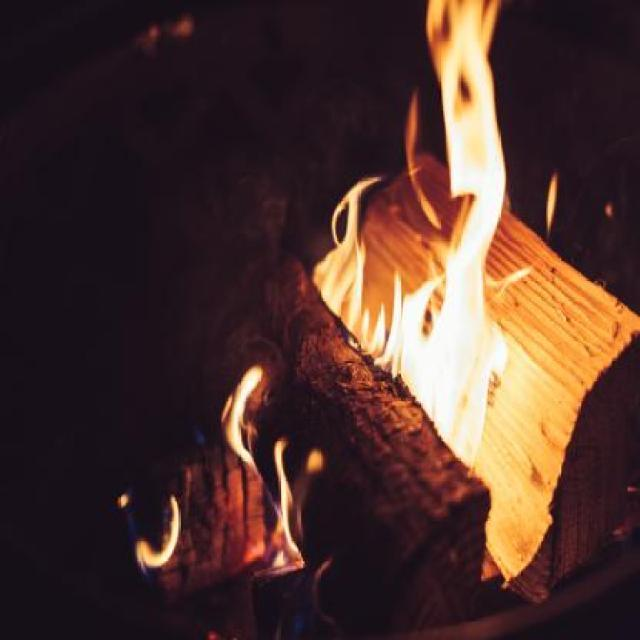Fire: (322, 2, 538, 476), (220, 362, 310, 577), (116, 487, 183, 575)
